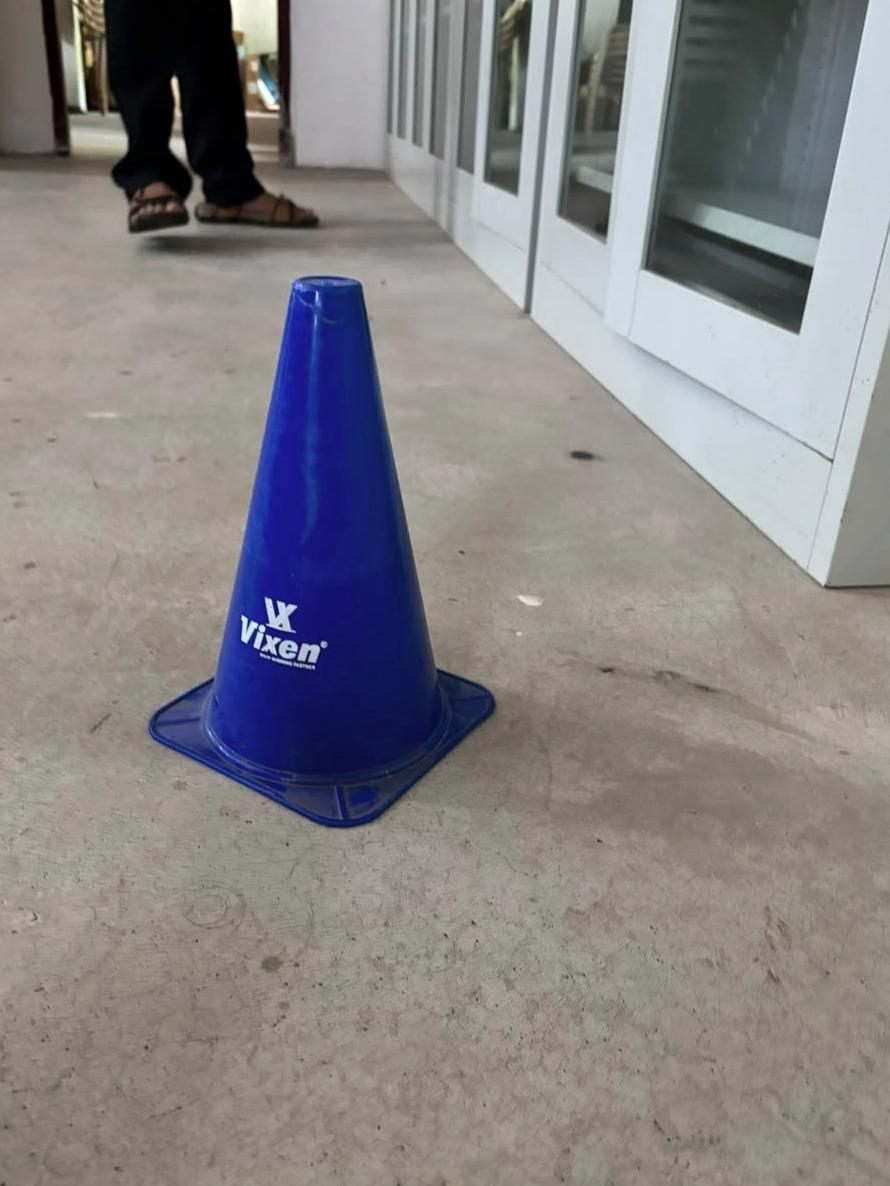0 cone: (149, 276, 494, 827)
